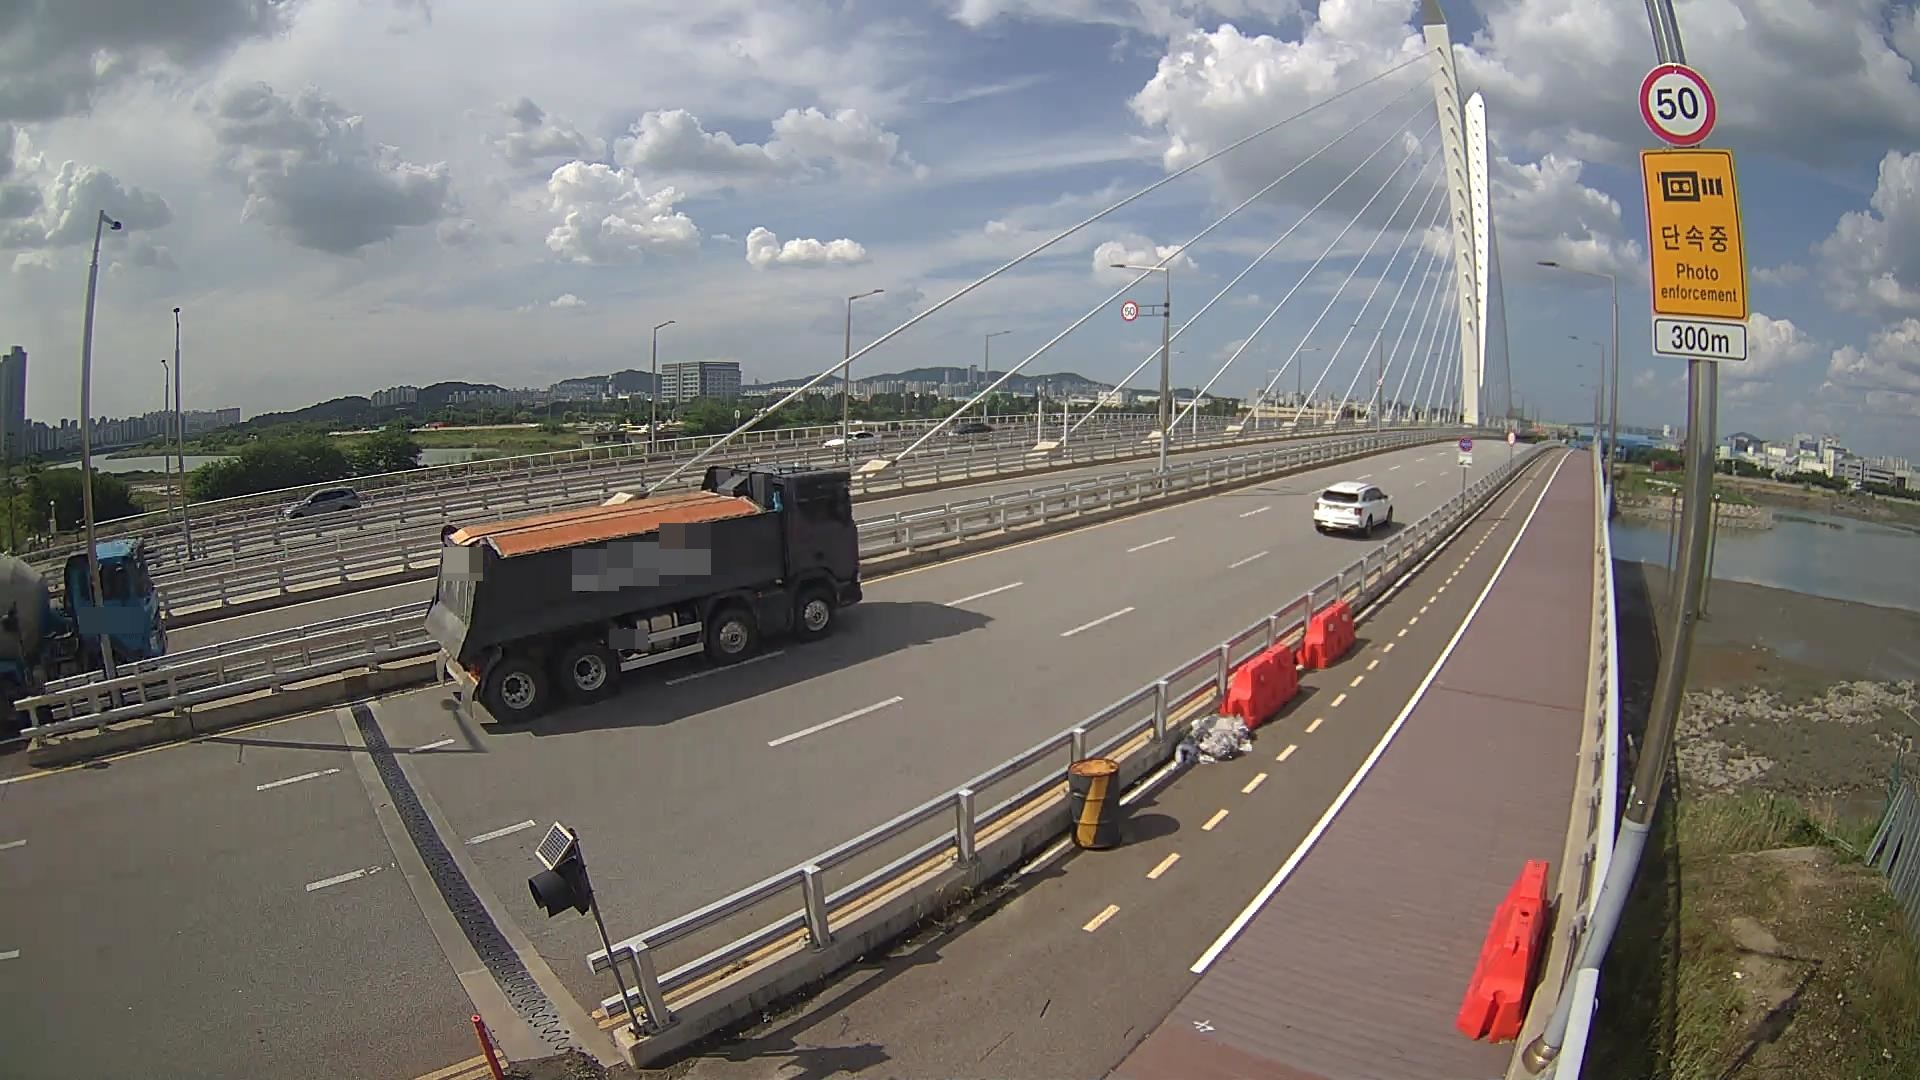정상차량: (423, 465, 864, 721)
